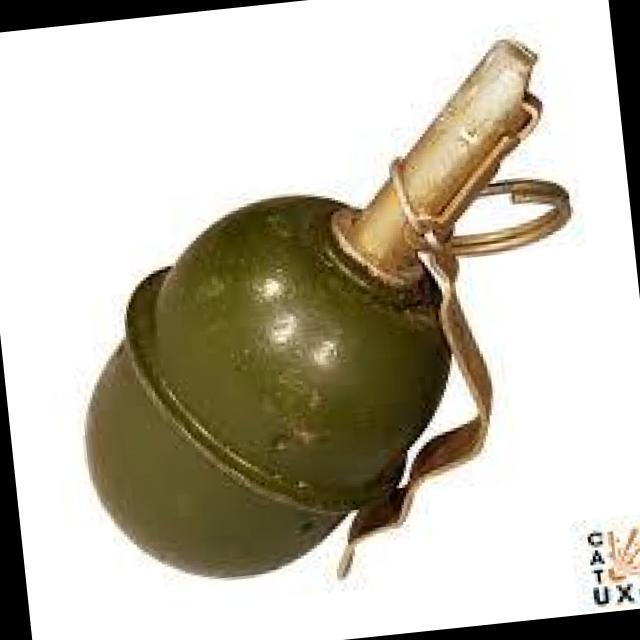grenade: (44, 23, 613, 618)
